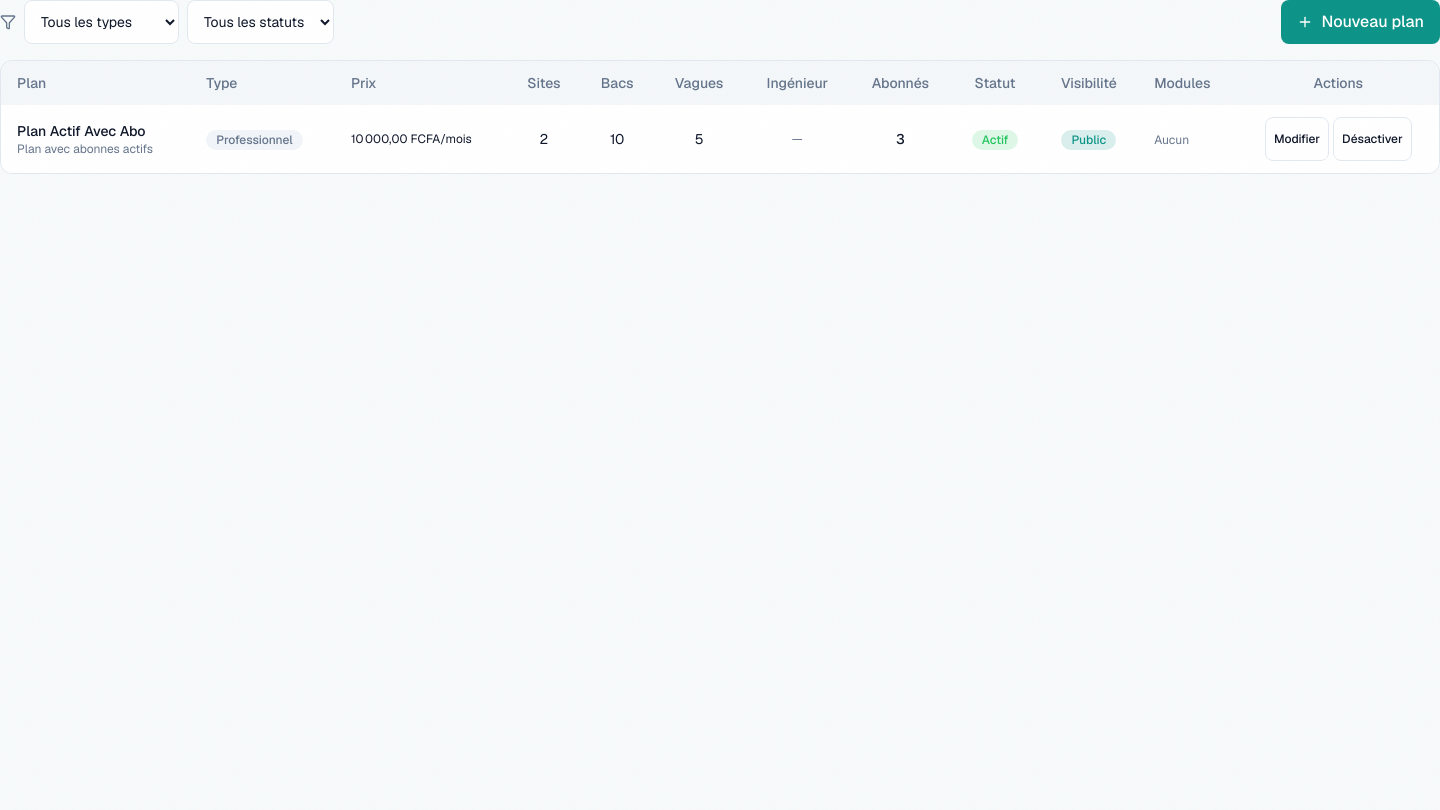
Test case: Toggle — Dialog de confirmation (plan avec abonnes actifs) › affiche un dialog de confirmation au clic sur 'Desactiver' quand plan a des abonnes
Click the button with aria-label "désactiver le plan Plan Actif Avec Abo": (1372, 139) [1333,117,1412,161]
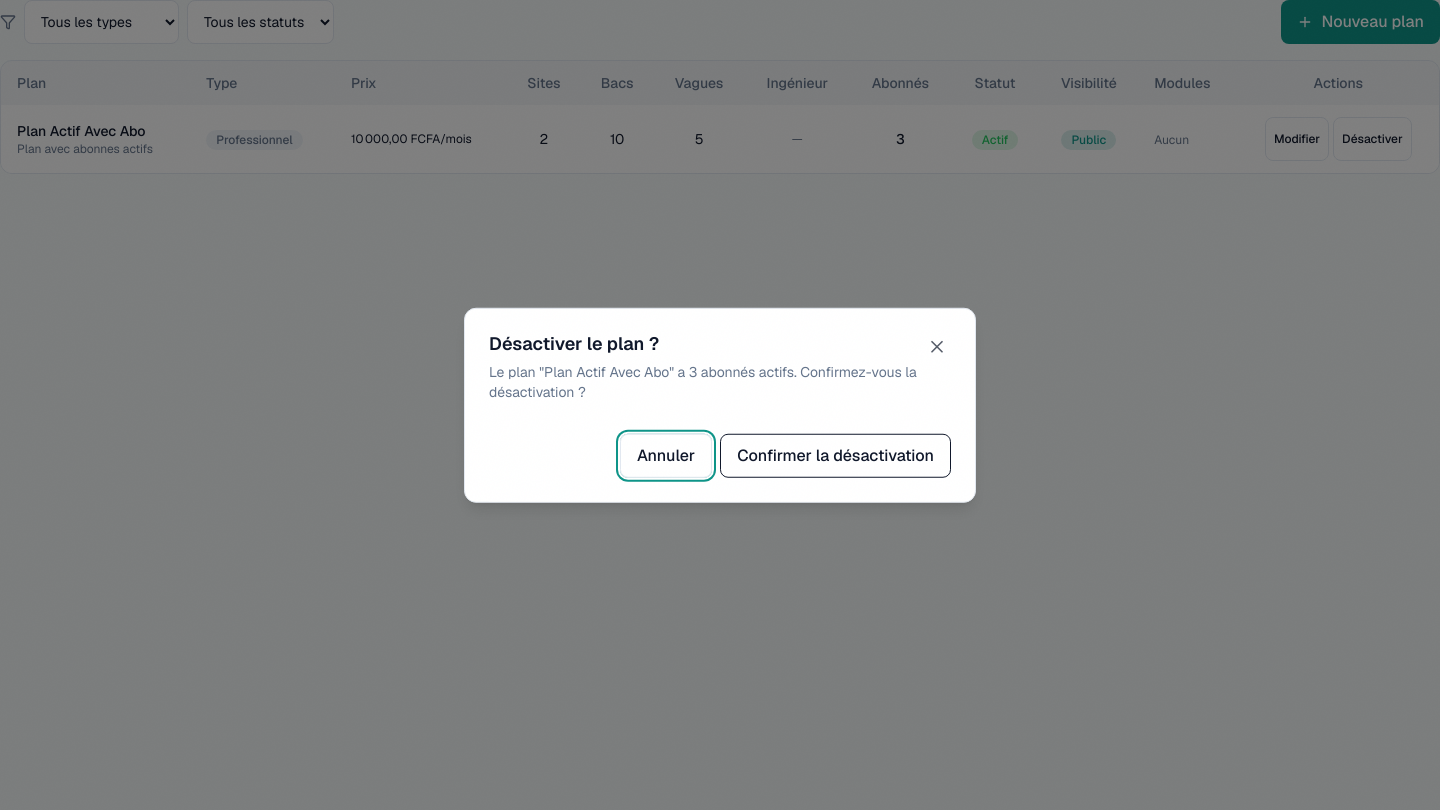
Expected: the heading "Désactiver le plan ?" is shown, [489,332,659,355]
